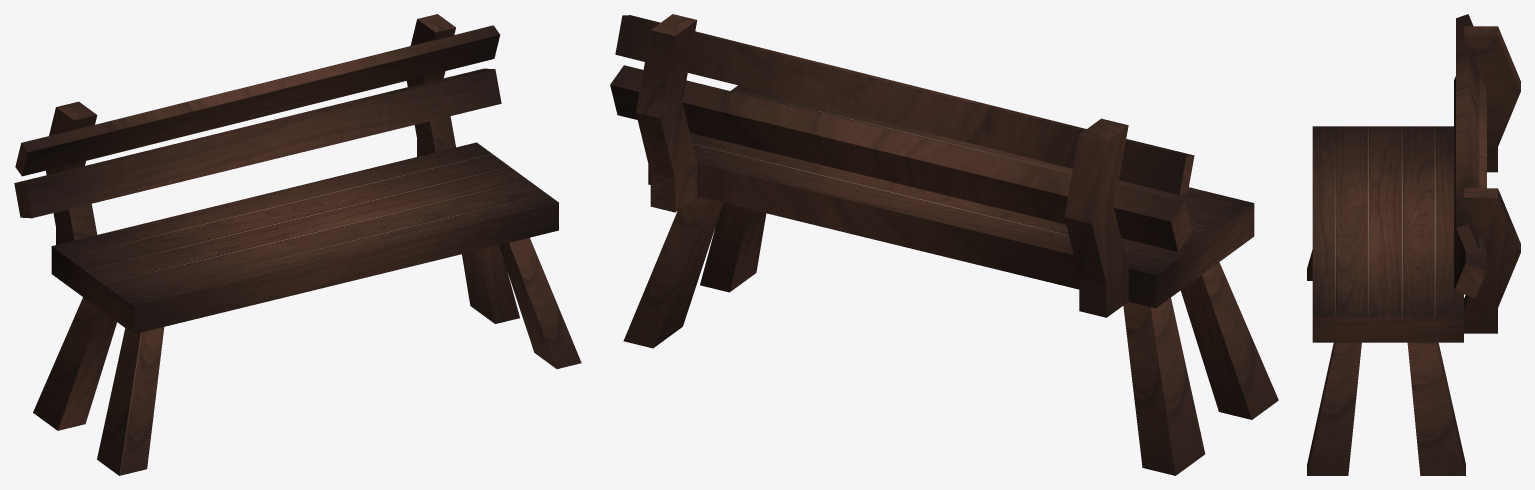
File: bank yeni.fbx
3 views of the same model, side by side, from view 1: azimuth 30°, elevation 25°; view 2: azimuth 150°, elevation 25°; view 3: azimuth 270°, elevation 25° (orthographic). The views are drawn at different scales.
Parts seen in each view (by area): view 1: Cube.001; view 2: Cube.001; view 3: Cube.001.
Boxes of the visible parts, box(x1,y1,x2,y2) form: Cube.001: box(14, 14, 581, 475); Cube.001: box(610, 14, 1278, 475); Cube.001: box(1307, 14, 1520, 475).
Size of the model in its own units: 121 by 69.43 by 51.69.
1 material, 1 textured.
